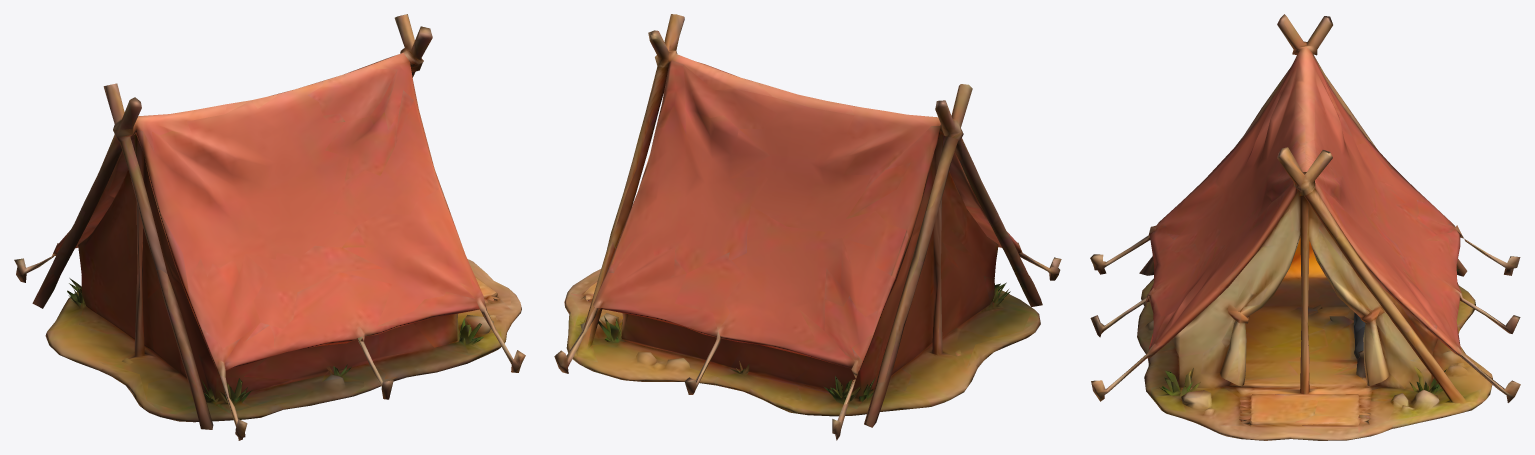
The model's file is deco_tent.glb.
The picture shows the model from 3 angles, left to right: view 1: azimuth 30°, elevation 25°; view 2: azimuth 150°, elevation 25°; view 3: azimuth 270°, elevation 25°; orthographic projection. The views are drawn at different scales.
Visible parts, largest first — view 1: tripo_node_a9e4329f-895a-46fd-aa1a-d53f79e490c9; view 2: tripo_node_a9e4329f-895a-46fd-aa1a-d53f79e490c9; view 3: tripo_node_a9e4329f-895a-46fd-aa1a-d53f79e490c9.
Boxes of the visible parts, x1,y1,x2,y2 form: tripo_node_a9e4329f-895a-46fd-aa1a-d53f79e490c9: (14,14,525,440); tripo_node_a9e4329f-895a-46fd-aa1a-d53f79e490c9: (554,14,1061,440); tripo_node_a9e4329f-895a-46fd-aa1a-d53f79e490c9: (1090,14,1520,440).
Bounding box in the file's own units: 1 × 0.6544 × 0.9852.
1 material, 1 textured.
